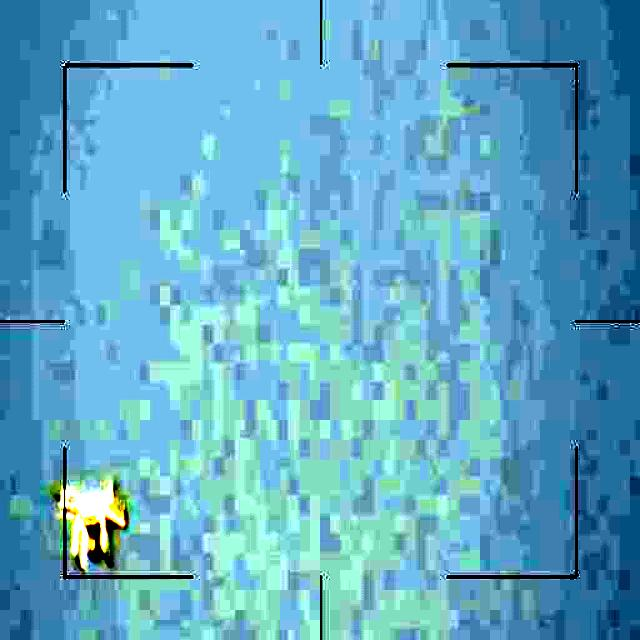bird: (49, 474, 130, 572)
